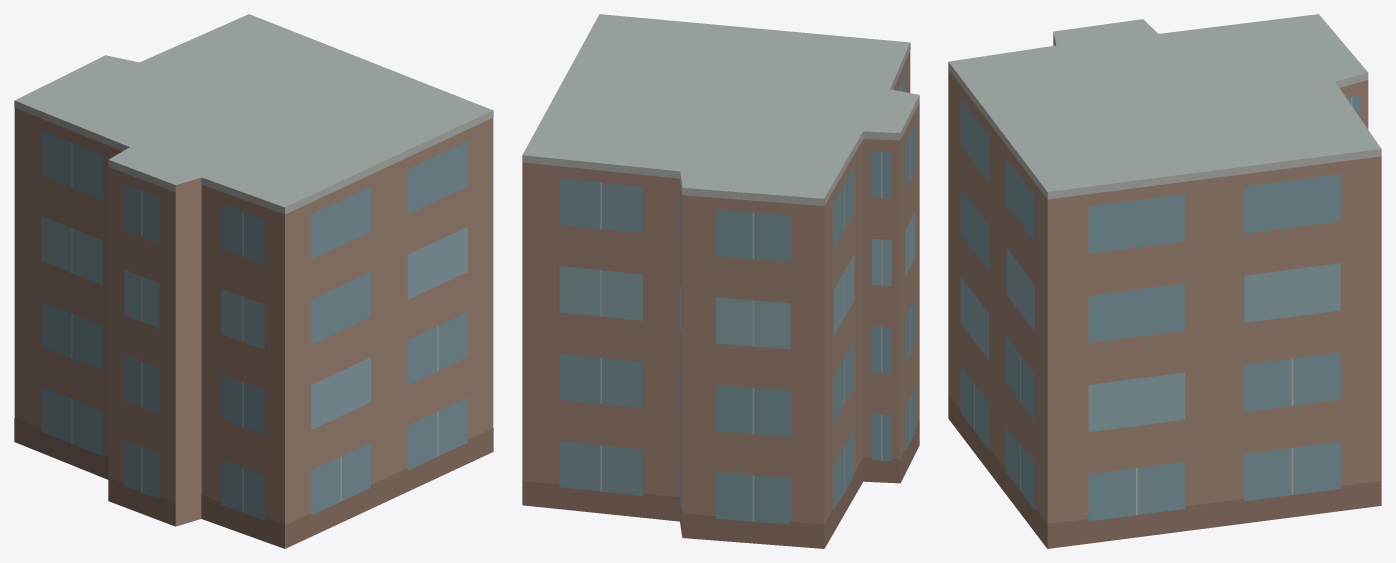
File: survey-upis-32689102.glb
3 views of the same model, side by side, from view 1: azimuth 30°, elevation 25°; view 2: azimuth 150°, elevation 25°; view 3: azimuth 270°, elevation 25° (orthographic). The views are drawn at different scales.
Visible parts, largest first — view 1: survey-upis-32689102.tmp; view 2: survey-upis-32689102.tmp; view 3: survey-upis-32689102.tmp.
Boxes of the visible parts, <box> form: survey-upis-32689102.tmp: <box>14,14,493,548</box>; survey-upis-32689102.tmp: <box>522,14,919,548</box>; survey-upis-32689102.tmp: <box>948,14,1381,548</box>.
Bounding box in the file's own units: 12.53 × 11.7 × 12.88.
